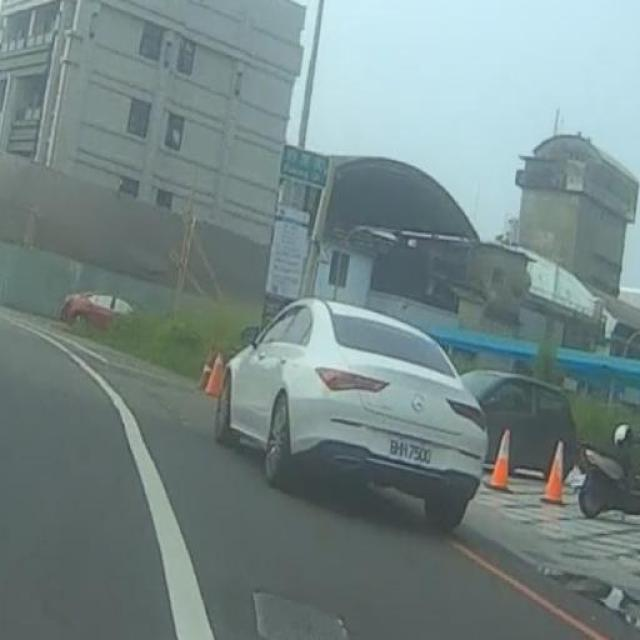Legalparking: (203, 260, 488, 582)
